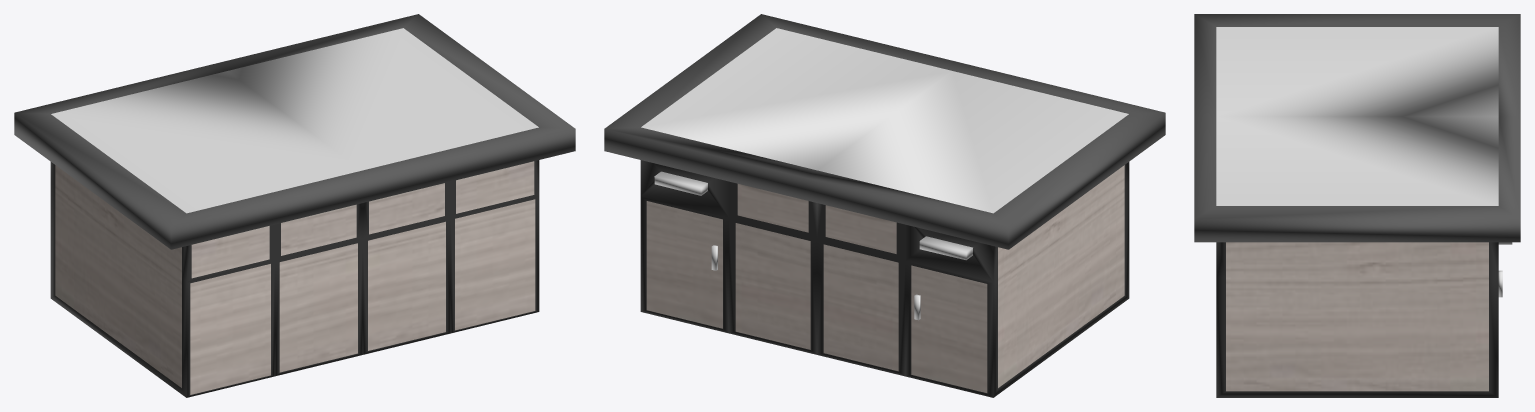
File: Sciencecounter.fbx
3 views of the same model, side by side, from view 1: azimuth 30°, elevation 25°; view 2: azimuth 150°, elevation 25°; view 3: azimuth 270°, elevation 25° (orthographic). The views are drawn at different scales.
Visible parts, largest first — view 1: Cube; view 2: Cube; view 3: Cube.
Part boxes in pixels (left/top/right/bottom): Cube: left=14, top=14, right=575, bottom=397; Cube: left=604, top=14, right=1165, bottom=397; Cube: left=1194, top=14, right=1520, bottom=397.
Size of the model in its own units: 1376 by 600 by 924.
Materials: 5 (1 with a texture image).
